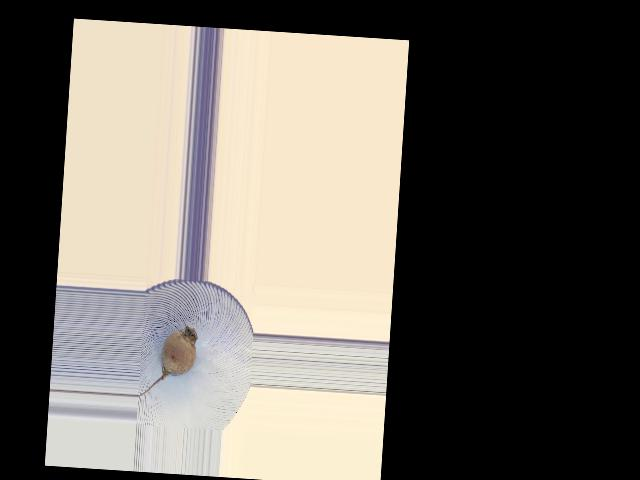beet: (137, 322, 197, 400)
